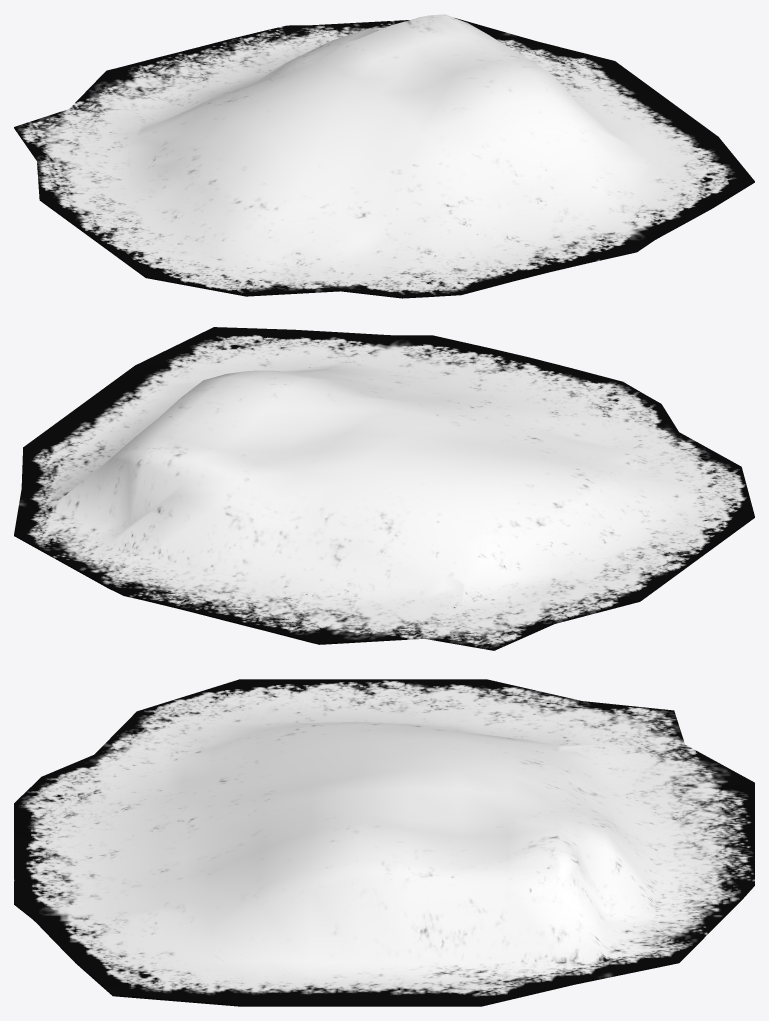
File: powder.FBX
3 renders of one model, top to bottom at view 1: azimuth 30°, elevation 25°; view 2: azimuth 150°, elevation 25°; view 3: azimuth 270°, elevation 25°, orthographic. The views are drawn at different scales.
Parts seen in each view (by area): view 1: Object005; view 2: Object005; view 3: Object005.
Part boxes in pixels (x1,y1,x2,y2): Object005: [14, 14, 754, 298]; Object005: [14, 327, 754, 650]; Object005: [14, 679, 754, 1006].
Bounding box in the file's own units: 0.0535 × 0.00575 × 0.0514.
